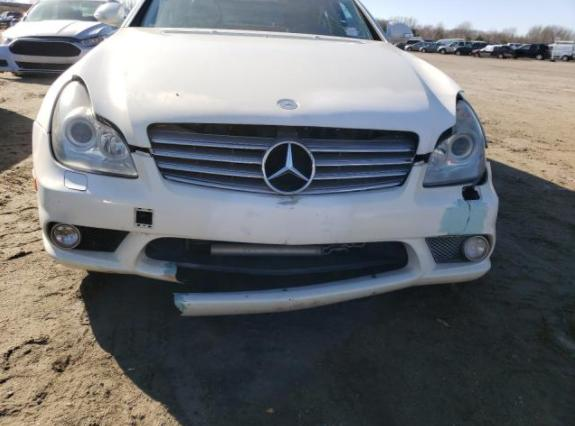Fender: (36, 52, 88, 134)
Front-bumper: (33, 121, 499, 316)
Grille: (147, 123, 419, 196)
Headlight: (50, 79, 138, 178), (424, 101, 486, 187)
Hood: (73, 28, 464, 155)
Mirror: (93, 3, 126, 28), (384, 22, 413, 42)
Windshield: (129, 0, 382, 40)
